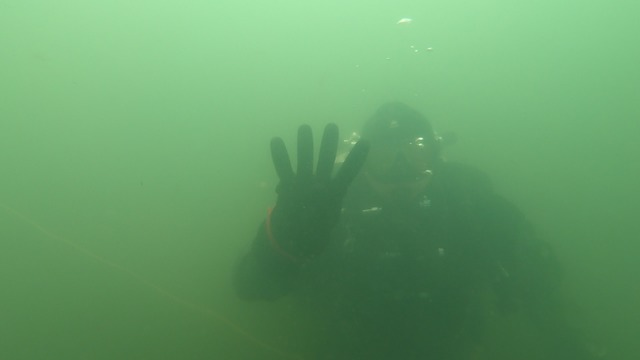Hand: (264, 119, 379, 257)
Head: (334, 95, 458, 244)
